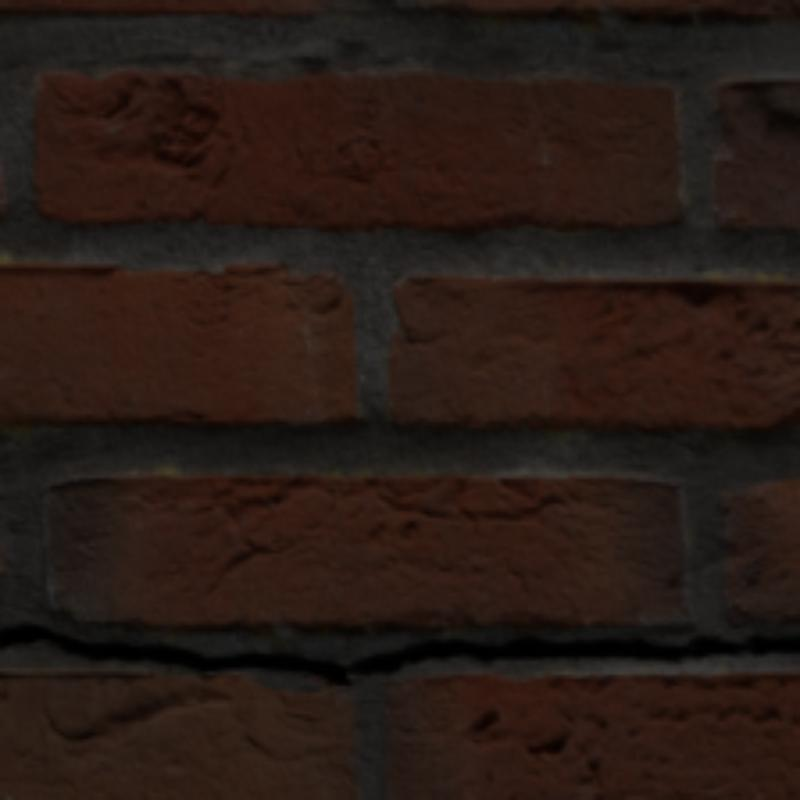crack: (0, 625, 796, 682)
